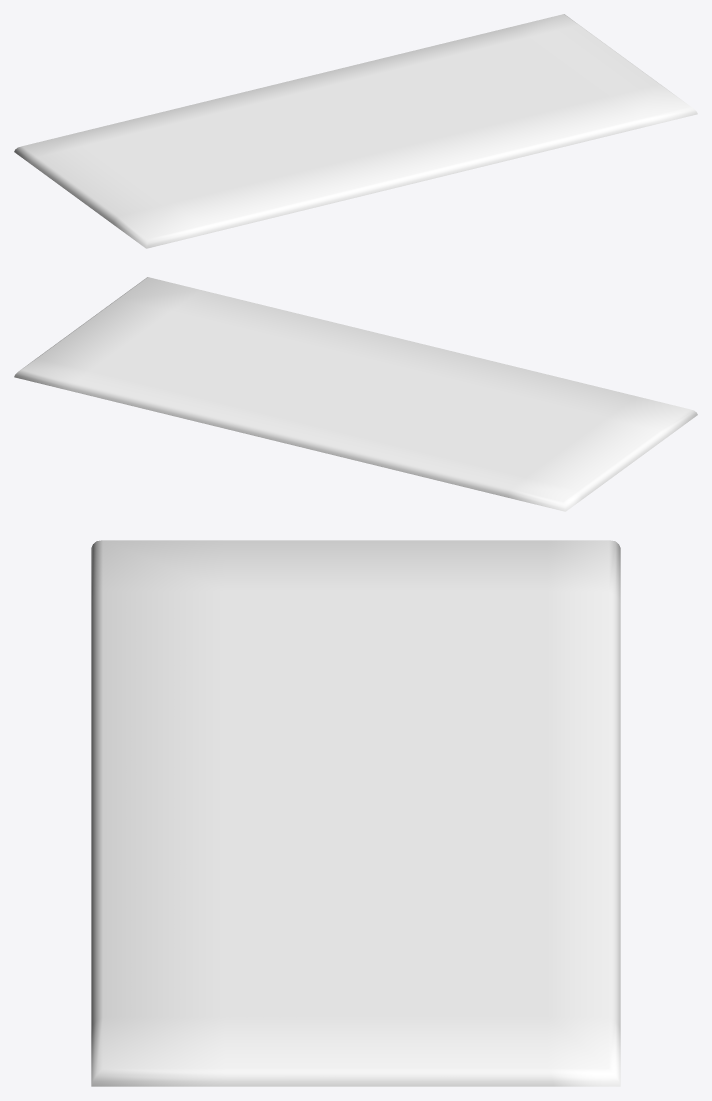
Rendered from Platform_X_LargeLong.fbx.
3 views of the same model, one above another, from view 1: azimuth 30°, elevation 25°; view 2: azimuth 150°, elevation 25°; view 3: azimuth 270°, elevation 25° (orthographic). The views are drawn at different scales.
Parts seen in each view (by area): view 1: Plane.003; view 2: Plane.003; view 3: Plane.003.
Boxes of the visible parts, <box> form: Plane.003: <box>14,14,697,248</box>; Plane.003: <box>14,277,697,511</box>; Plane.003: <box>91,540,620,1086</box>.
Size of the model in its own units: 3693 by 42.22 by 1535.
